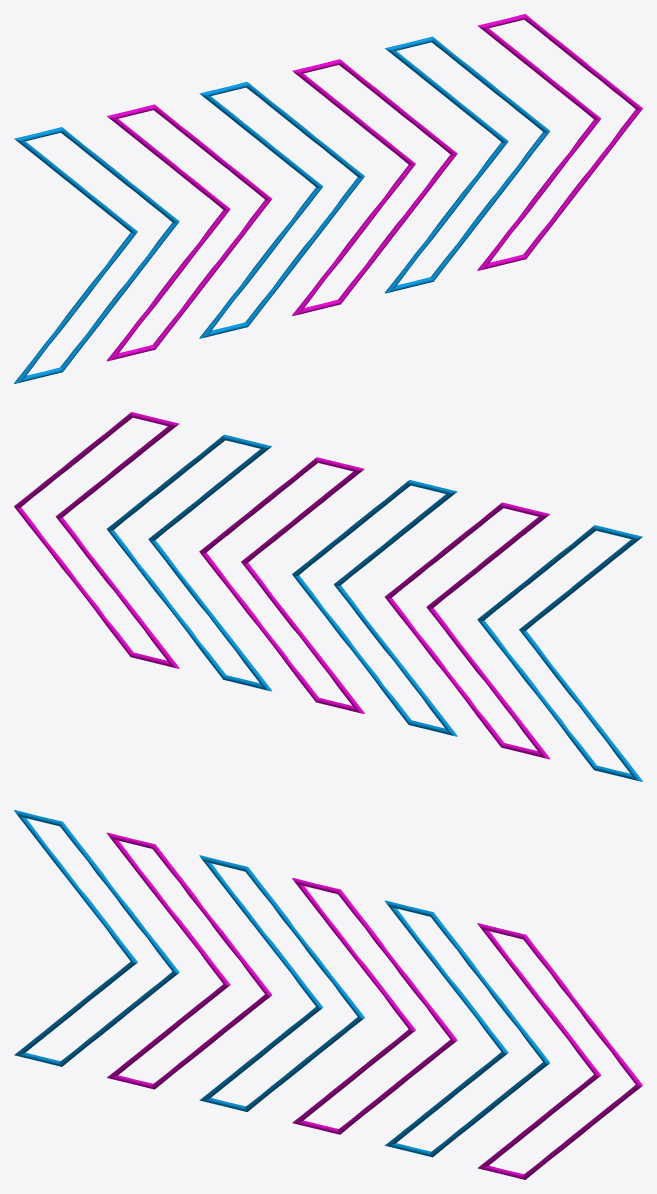
File: Arrow4.fbx
The picture shows the model from 3 angles, top to bottom: view 1: azimuth 30°, elevation 25°; view 2: azimuth 150°, elevation 25°; view 3: azimuth 330°, elevation 25°; orthographic projection.
Visible parts, largest first — view 1: Sweep [47694]; view 2: Sweep [47694]; view 3: Sweep [47694].
Part boxes in pixels (x1,y1,x2,y2): Sweep [47694]: (14,14,642,383); Sweep [47694]: (14,412,642,781); Sweep [47694]: (14,810,642,1179).
Size of the model in its own units: 271 by 101 by 2.
